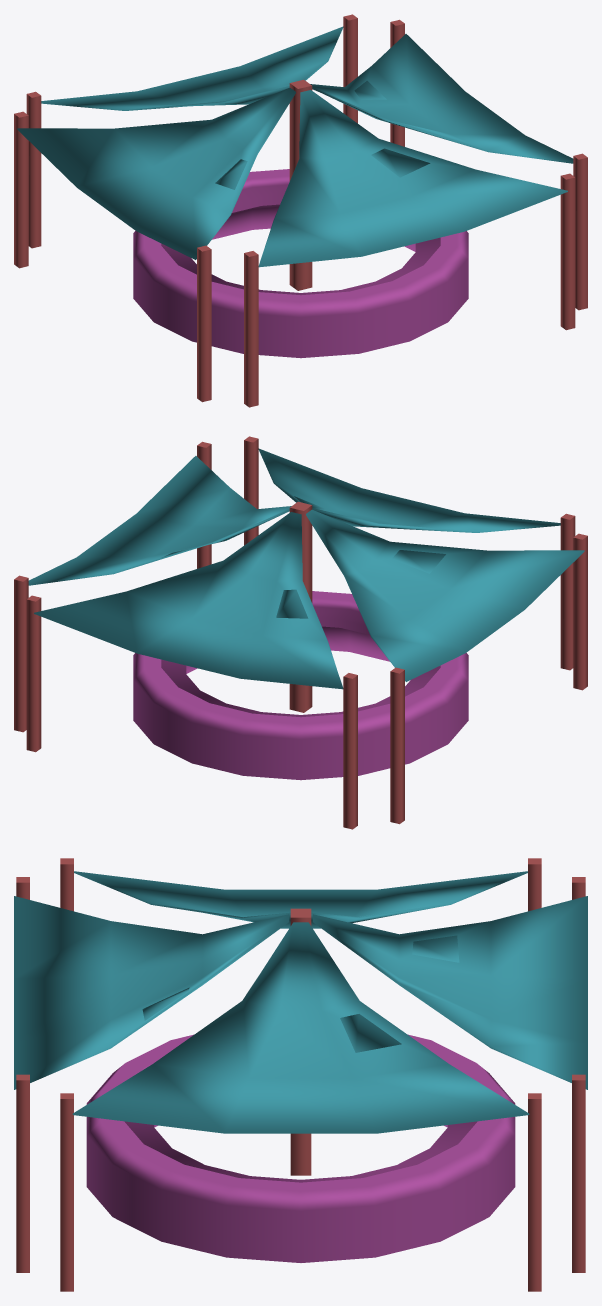
The model's file is infostand_uvs.FBX.
3 views of the same model, one above another, from view 1: azimuth 30°, elevation 25°; view 2: azimuth 150°, elevation 25°; view 3: azimuth 270°, elevation 25° (orthographic). The views are drawn at different scales.
Parts seen in each view (by area): view 1: polySurface1, INFO_STAND_base, polySurface2; view 2: polySurface1, INFO_STAND_base, polySurface2; view 3: polySurface1, INFO_STAND_base, polySurface2.
Part boxes in pixels (left/top/right/bottom): polySurface1: left=17, top=26, right=573, bottom=267; INFO_STAND_base: left=133, top=169, right=468, bottom=358; polySurface2: left=14, top=14, right=587, bottom=407; polySurface1: left=28, top=448, right=584, bottom=689; INFO_STAND_base: left=133, top=591, right=468, bottom=780; polySurface2: left=14, top=436, right=587, bottom=829; polySurface1: left=14, top=871, right=587, bottom=1133; INFO_STAND_base: left=86, top=1034, right=515, bottom=1262; polySurface2: left=16, top=858, right=585, bottom=1291.
Size of the model in its own units: 1107 by 549 by 1107.
